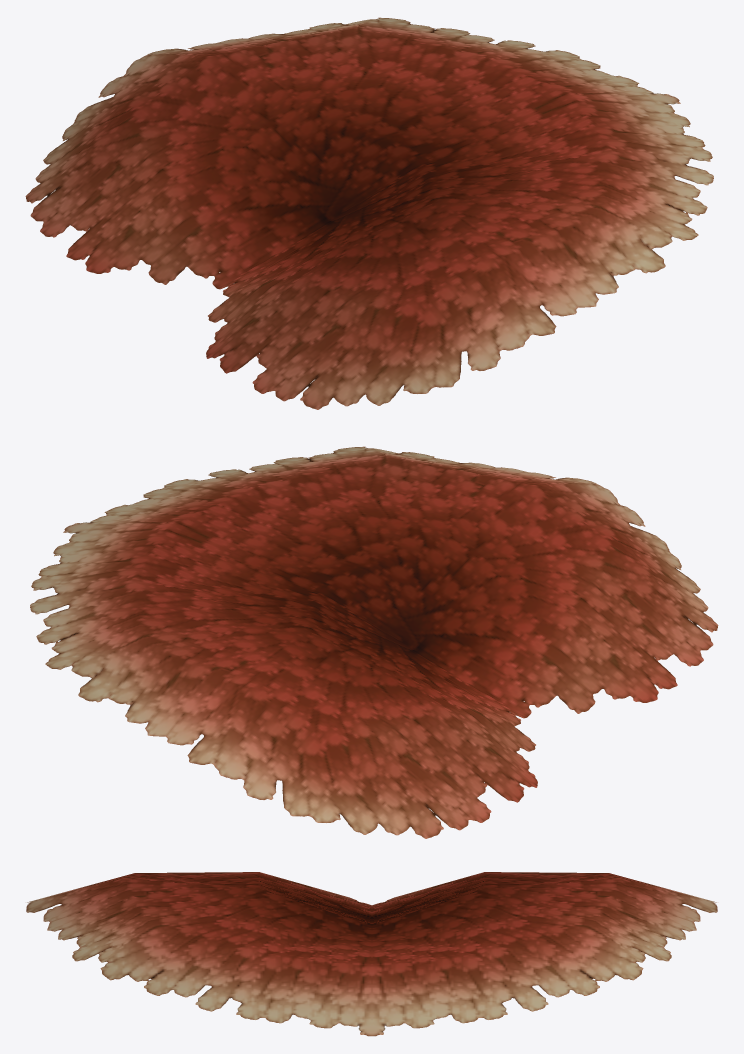
The model's file is Coral_17.FBX.
3 views of the same model, one above another, from view 1: azimuth 30°, elevation 25°; view 2: azimuth 150°, elevation 25°; view 3: azimuth 270°, elevation 25° (orthographic). The views are drawn at different scales.
Parts seen in each view (by area): view 1: Coral_17; view 2: Coral_17; view 3: Coral_17.
Boxes of the visible parts, <box> form: Coral_17: <box>25,17,713,409</box>; Coral_17: <box>30,446,718,838</box>; Coral_17: <box>26,872,717,1036</box>.
Bounding box in the file's own units: 19.43 × 3.99 × 24.92.
